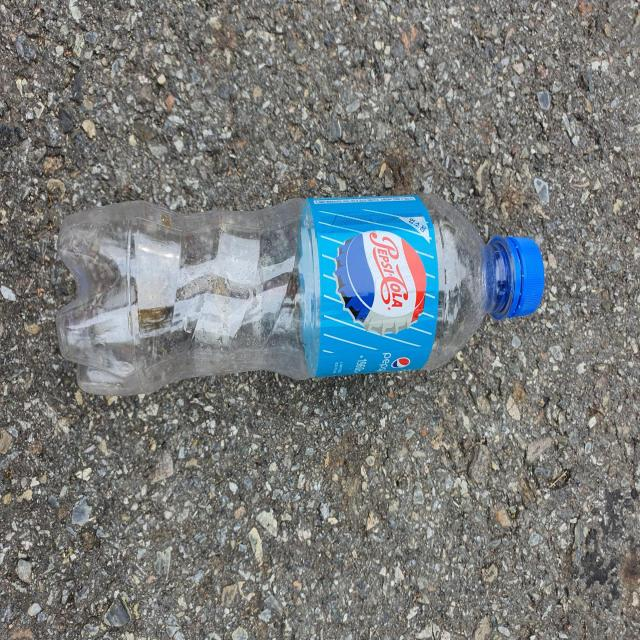plastic: (56, 194, 545, 396)
